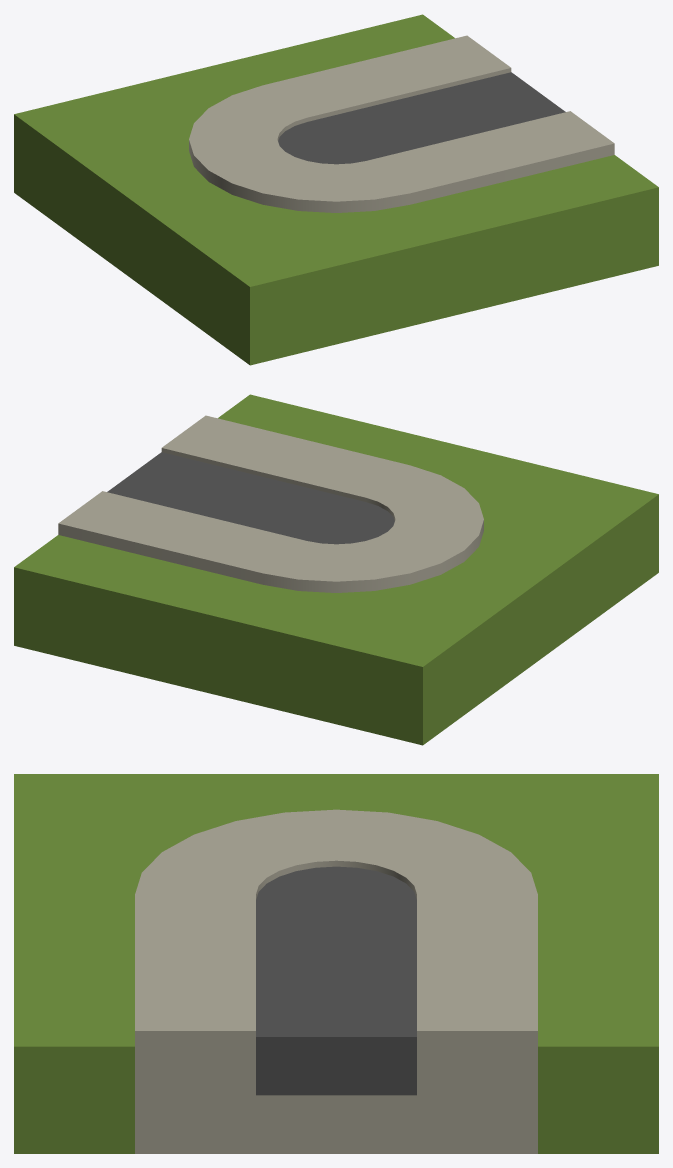
File: roadTile_143.obj
3 views of the same model, one above another, from view 1: azimuth 30°, elevation 25°; view 2: azimuth 150°, elevation 25°; view 3: azimuth 270°, elevation 25° (orthographic). The views are drawn at different scales.
Parts seen in each view (by area): view 1: Mesh1_Group1_Model.163; view 2: Mesh1_Group1_Model.163; view 3: Mesh1_Group1_Model.163.
Boxes of the visible parts, x1,y1,x2,y2 form: Mesh1_Group1_Model.163: [14, 14, 658, 365]; Mesh1_Group1_Model.163: [14, 394, 658, 745]; Mesh1_Group1_Model.163: [14, 774, 658, 1153].
Bounding box in the file's own units: 3 × 0.63 × 3.
